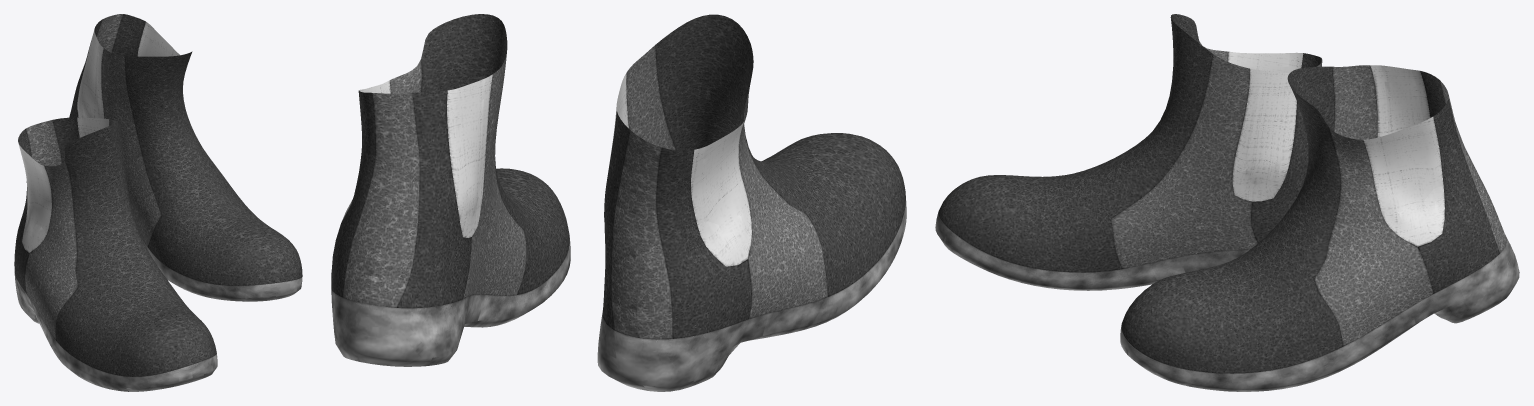
File: boots.glb
3 views of the same model, side by side, from view 1: azimuth 30°, elevation 25°; view 2: azimuth 150°, elevation 25°; view 3: azimuth 270°, elevation 25° (orthographic). The views are drawn at different scales.
Visible parts, largest first — view 1: BootLP_BootLP_0; view 2: BootLP_BootLP_0; view 3: BootLP_BootLP_0.
Part boxes in pixels (bbox=[...]): BootLP_BootLP_0: bbox=[14, 14, 302, 391]; BootLP_BootLP_0: bbox=[331, 14, 906, 391]; BootLP_BootLP_0: bbox=[935, 14, 1519, 391].
Size of the model in its own units: 1 by 0.8183 by 1.58.
Materials: 1 (1 with a texture image).
